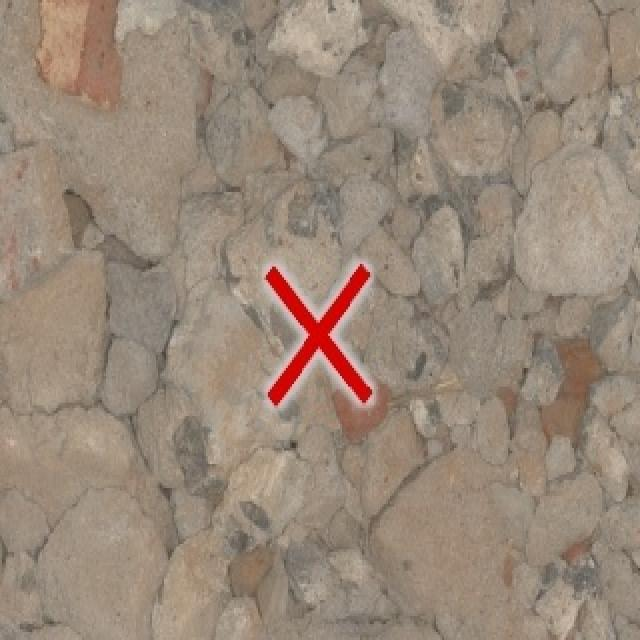x_marker: (265, 263, 371, 404)
